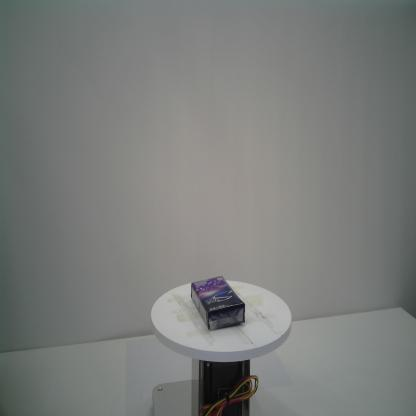Gum: (191, 276, 245, 331)
